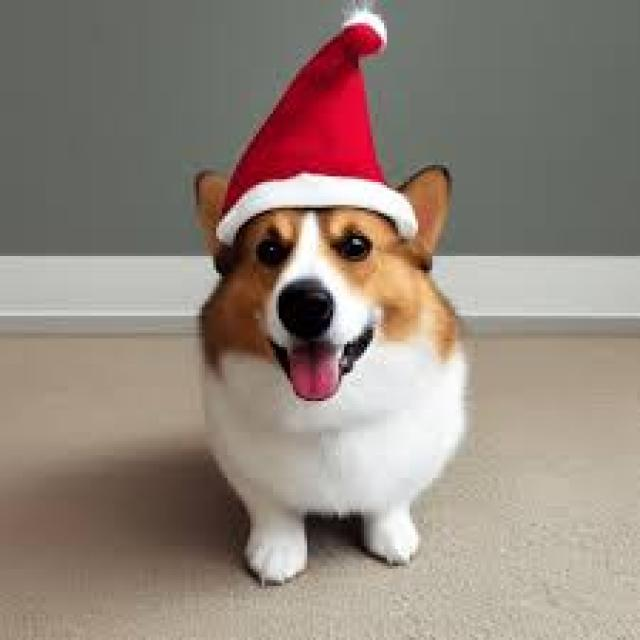CORGI: (152, 141, 486, 587)
